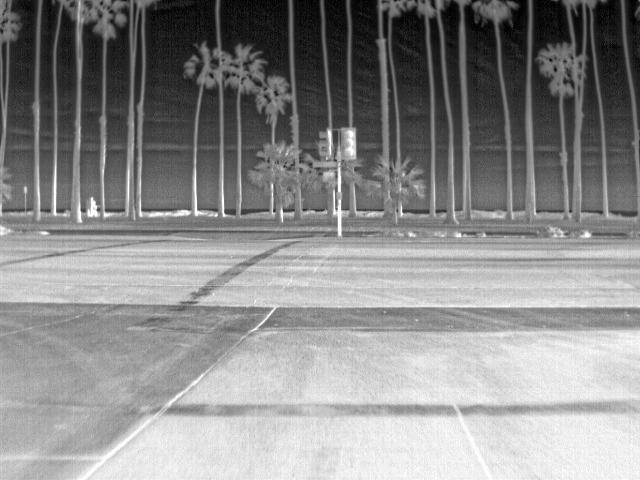person: (88, 194, 98, 218)
